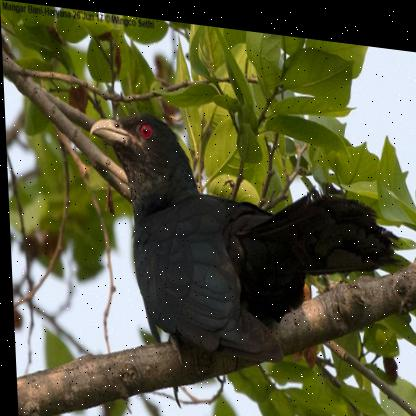Burung: (87, 104, 405, 381)
